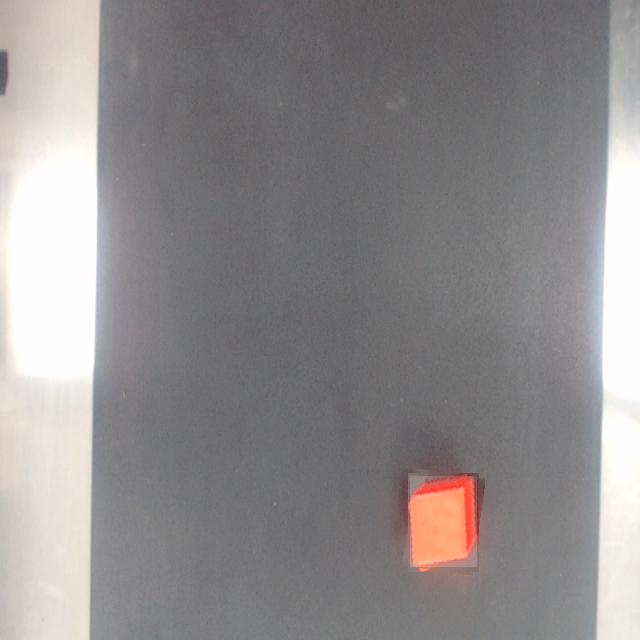Rojo: (411, 476, 477, 567)
